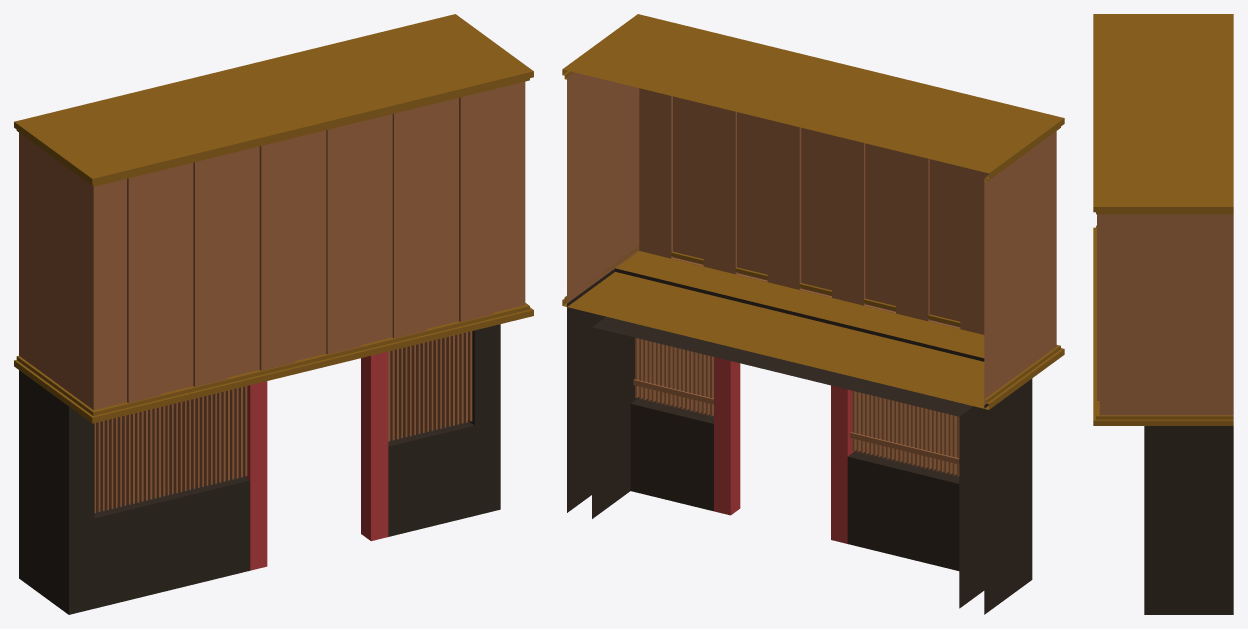
The model's file is Udon.FBX.
3 renders of one model, left to right at view 1: azimuth 30°, elevation 25°; view 2: azimuth 150°, elevation 25°; view 3: azimuth 270°, elevation 25°, orthographic. The views are drawn at different scales.
Parts seen in each view (by area): view 1: Udon; view 2: Udon; view 3: Udon.
Boxes of the visible parts, <box> form: Udon: <box>14,14,533,614</box>; Udon: <box>562,14,1064,614</box>; Udon: <box>1093,14,1233,614</box>.
Bounding box in the file's own units: 511 × 507 × 157.
